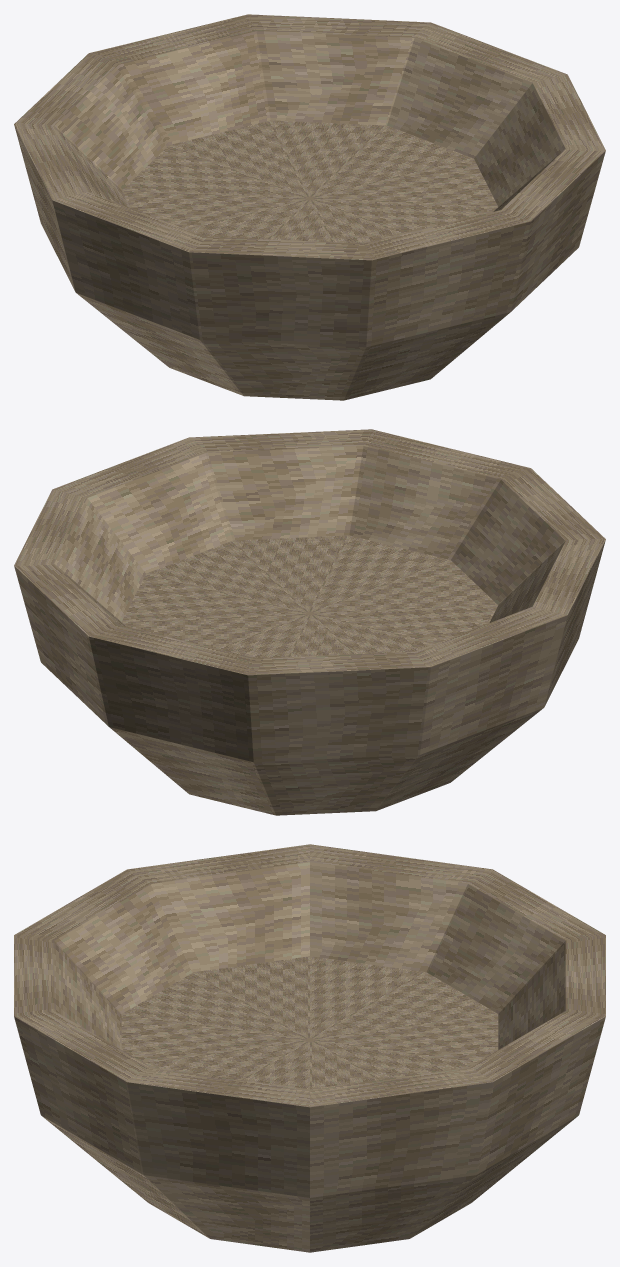
The model's file is sopa_de_cogumelo_de_caverna.glb.
3 renders of one model, top to bottom at view 1: azimuth 30°, elevation 25°; view 2: azimuth 150°, elevation 25°; view 3: azimuth 270°, elevation 25°, orthographic. The views are drawn at different scales.
Parts seen in each view (by area): view 1: sopa_de_cogumelo_de_caverna; view 2: sopa_de_cogumelo_de_caverna; view 3: sopa_de_cogumelo_de_caverna.
Part boxes in pixels (bbox=[...]): sopa_de_cogumelo_de_caverna: bbox=[14, 14, 605, 400]; sopa_de_cogumelo_de_caverna: bbox=[14, 429, 605, 815]; sopa_de_cogumelo_de_caverna: bbox=[14, 844, 605, 1252].
Size of the model in its own units: 0.44 by 0.16 by 0.4185.
1 material, 1 textured.
